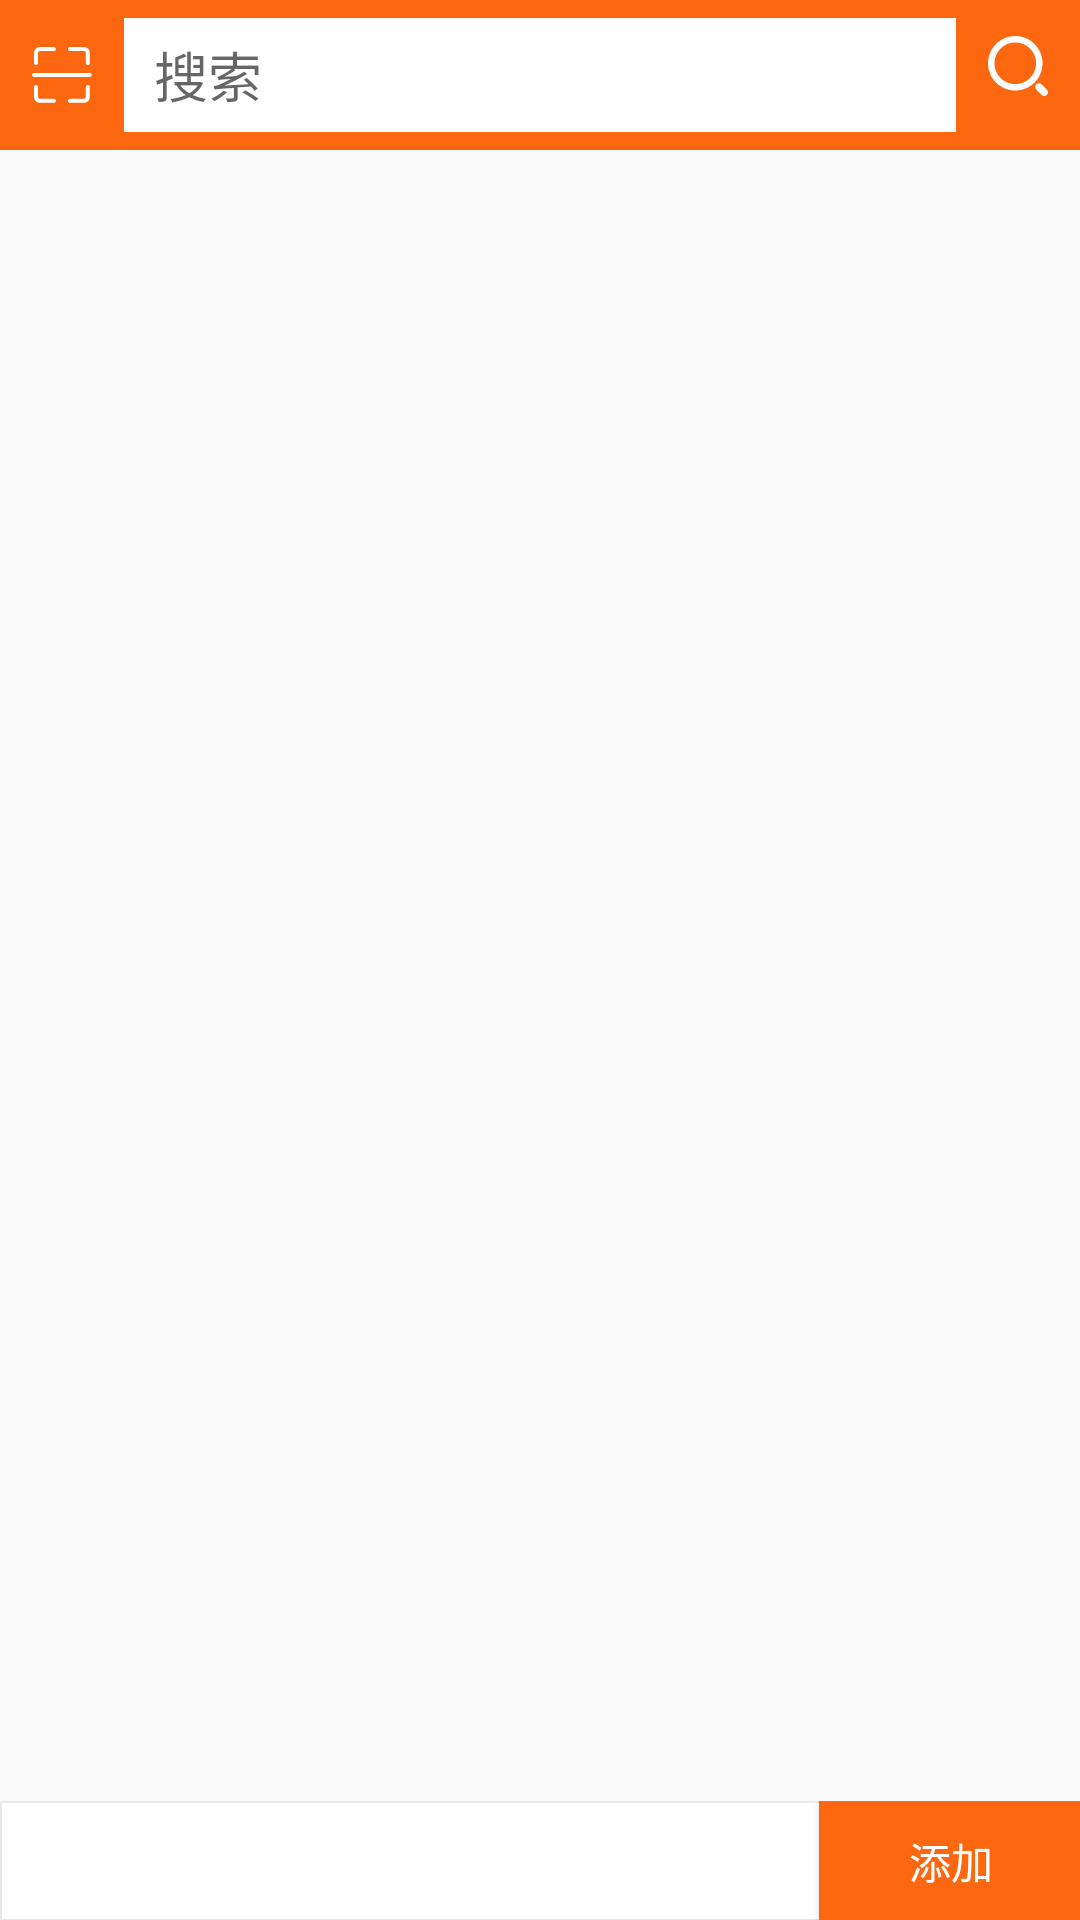

Screen size 1080px×1920px. Icon name, then its center in pixels as point (x, y):
scan: point (62, 75)
search: point (1018, 66)
